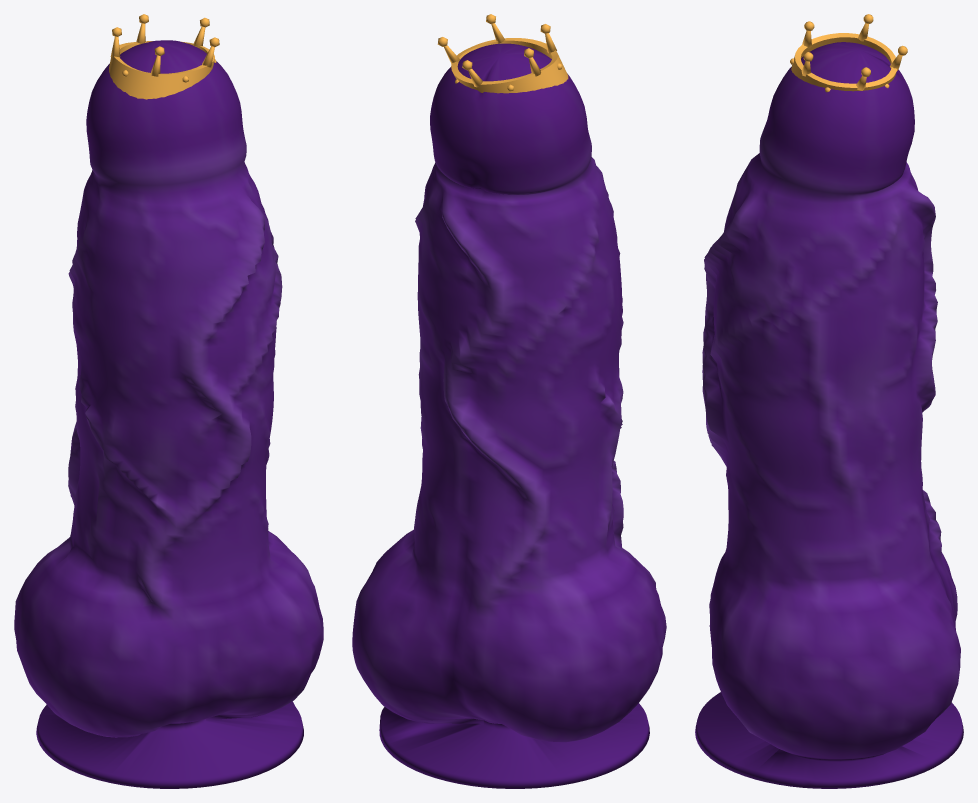
Rendered from king_purple.glb.
3 renders of one model, left to right at view 1: azimuth 30°, elevation 25°; view 2: azimuth 150°, elevation 25°; view 3: azimuth 270°, elevation 25°, orthographic.
Visible parts, largest first — view 1: king, crown; view 2: king, crown; view 3: king, crown.
Boxes of the visible parts, bbox=[...] form: king: bbox=[14, 40, 323, 788]; crown: bbox=[109, 14, 219, 99]; king: bbox=[352, 43, 666, 788]; crown: bbox=[437, 14, 568, 93]; king: bbox=[695, 42, 963, 788]; crown: bbox=[790, 14, 907, 92].
Size of the model in its own units: 0.5152 by 1.28 by 0.446.
